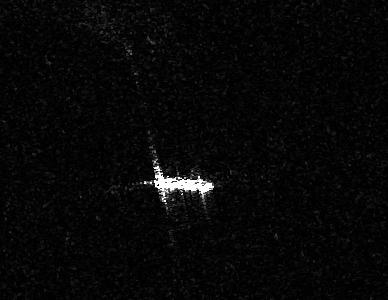ship: (150, 172, 216, 197)
